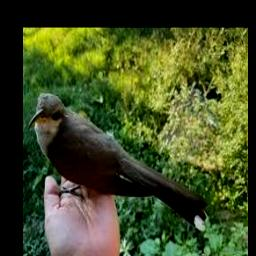Cuckoo: (28, 93, 207, 231)
